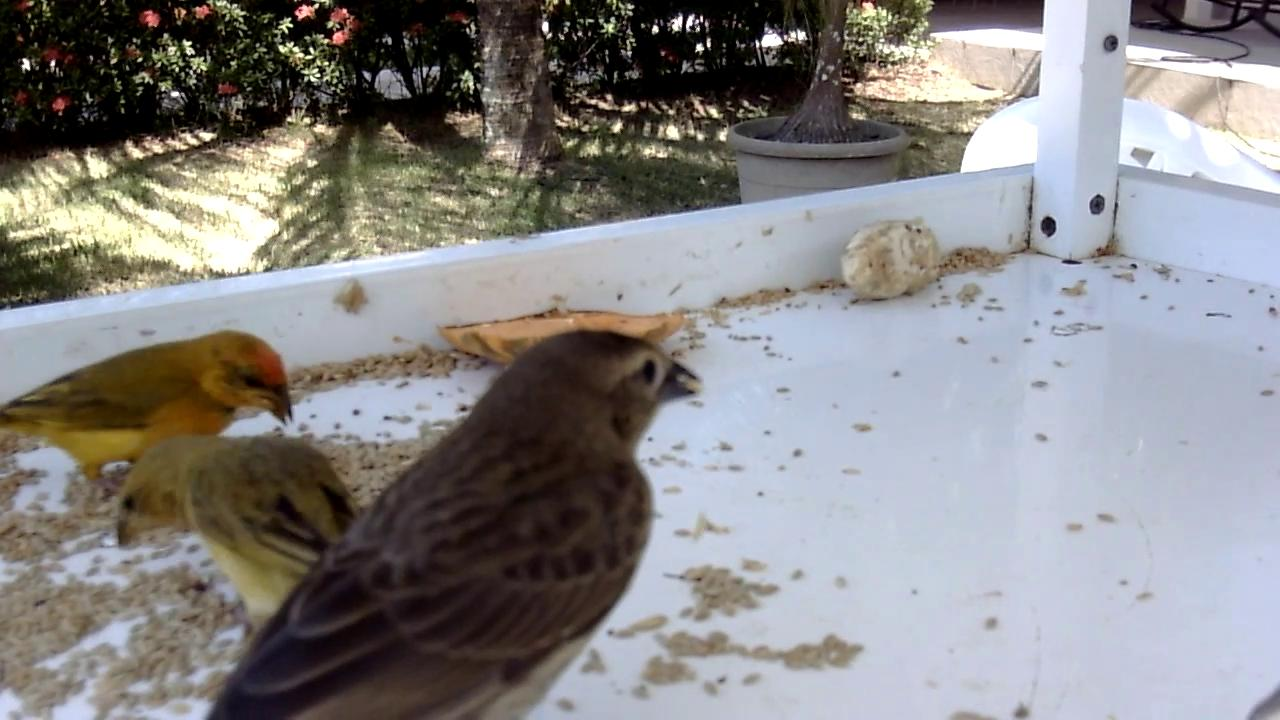canario_do_amazonas: (114, 434, 363, 644), (1, 326, 296, 495)
chupim: (208, 327, 706, 720)
